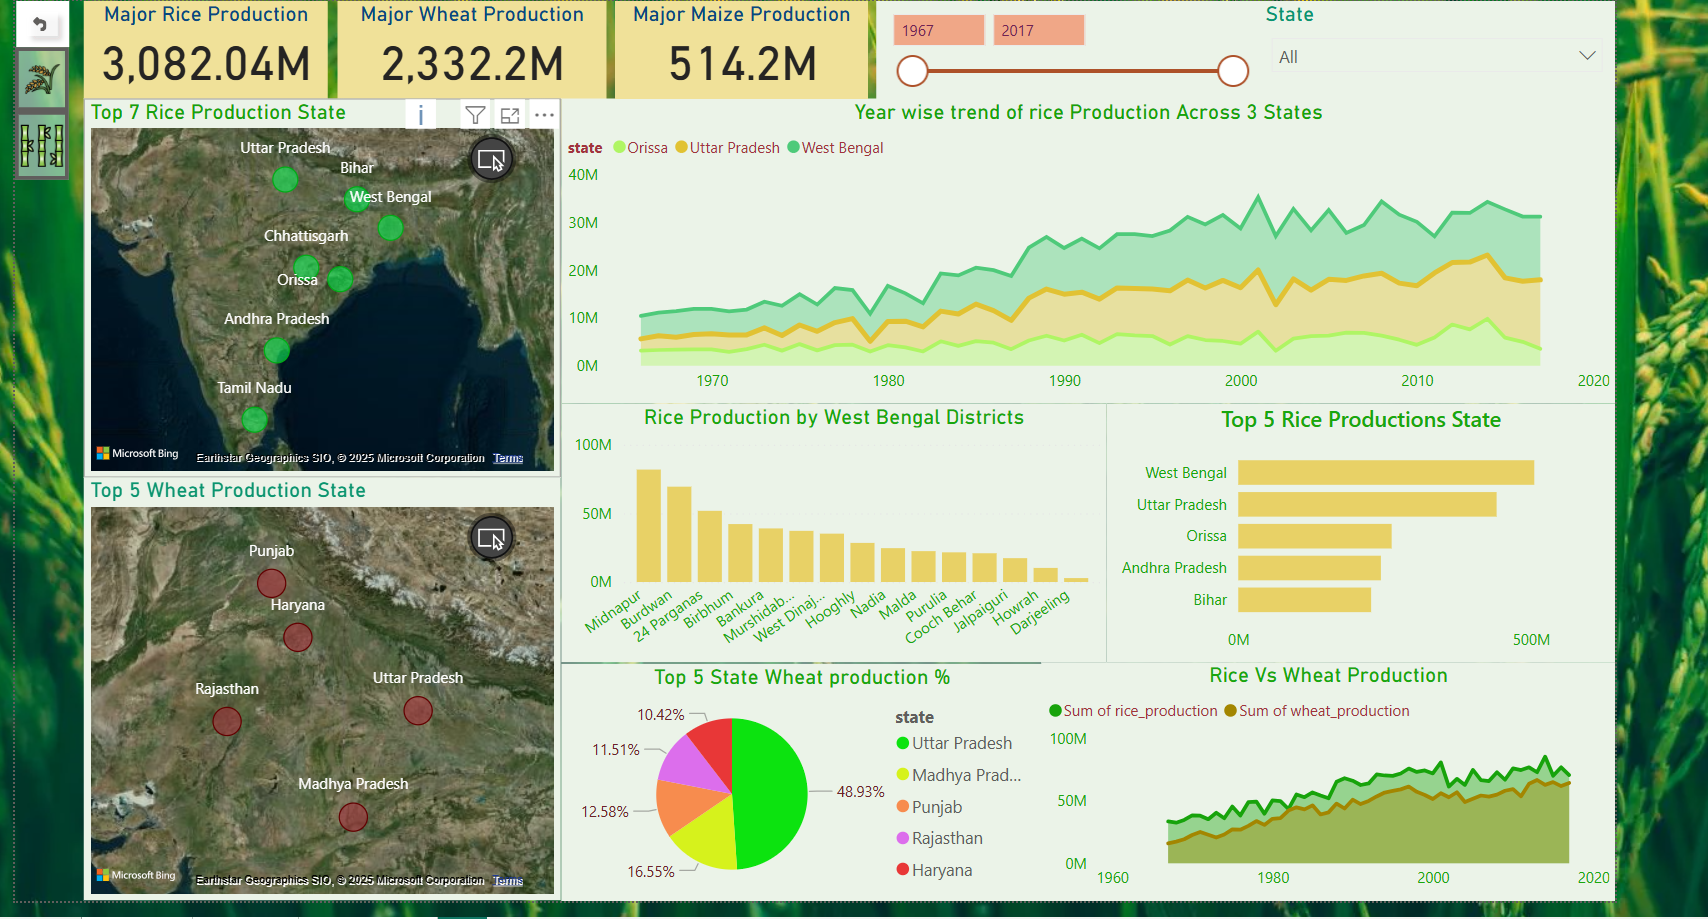

The page's visual inventory and layout, read from the dashboard file:
{"tool":"powerbi","page":{"name":"CEREALS","canvas":[1280,720],"ordinal":0},"visuals":[{"type":"clusteredBarChart","title":"Top 5  Rice Productions State","fields":{"Category":["Top 7 RICE PRODUCTION State Data.state"],"Y":["Sum(Top 7 RICE PRODUCTION State Data.rice_production)"]},"box":[821,106.7,459,324.8],"z":0},{"type":"card","title":"Major Wheat Production","fields":{"Values":["Sum(Query1.wheat_production)"]},"box":[311.6,10.8,214.6,77.4],"z":1000},{"type":"card","title":"Major Rice Production","fields":{"Values":["Sum(rice production.rice_production)"]},"box":[70.6,10.8,212.6,76.4],"z":2000},{"type":"pieChart","title":"Top 5 State Wheat production %","fields":{"Y":["Sum(Top 5 wheat producing state.percentage)"],"Category":["Top 5 wheat producing state.state"]},"box":[453,526.8,383.3,192.7],"z":3000},{"type":"lineChart","title":"Rice Vs Wheat Production","fields":{"Y":["Sum(Rice vs Wheat production.rice_production)","Sum(Rice vs Wheat production.wheat_production)"],"Category":["Rice vs Wheat production.year"]},"box":[844.9,445.8,435.1,274.5],"z":4000},{"type":"clusteredColumnChart","title":"Rice Production by West Bengal Districts","fields":{"Category":["Rice Production by West Bengal districts.west_bengal_districts"],"Y":["Sum(Rice Production by West Bengal districts.rice_production)"]},"box":[70.7,534.5,366.7,184.6],"z":5000},{"type":"lineChart","title":"Year wise trend of rice Production Across 3 States","fields":{"Series":["SQ1 - Year-wise Trend of Rice Production Across States (Top 3).state"],"Category":["SQ1 - Year-wise Trend of Rice Production Across States (Top 3).year"],"Y":["Sum(SQ1 - Year-wise Trend of Rice Production Across States (Top 3).total_rice_production)"]},"box":[70.7,94.3,740,424.3],"z":6000},{"type":"slicer","fields":{"Values":["Millet production (last 50 years).year"]},"box":[821,4.8,459,92.3],"z":7000},{"type":"card","title":"Major Maize Production","fields":{"Values":["Sum(maize pro.maize_production)"]},"box":[549.7,10.8,223.4,77.4],"z":10000},{"type":"actionButton","box":[0,10.8,49,49],"z":12000},{"type":"actionButton","box":[0,518.6,62.5,78.9],"z":13002},{"type":"actionButton","box":[0,640.6,62.5,78.9],"z":13003}]}

Visuals, with their boxes on the page's 1280x720 design canvas (x1, y1, x2, y2). These are canvas units, not pixel positions in the 1708x919 screenshot, which may show the page scaled, cropped or inside an application window:
"Top 5  Rice Productions State" clusteredBarChart: (left=821, top=107, right=1280, bottom=432)
"Major Wheat Production" card: (left=312, top=11, right=526, bottom=88)
"Major Rice Production" card: (left=71, top=11, right=283, bottom=87)
"Top 5 State Wheat production %" pieChart: (left=453, top=527, right=836, bottom=720)
"Rice Vs Wheat Production" lineChart: (left=845, top=446, right=1280, bottom=720)
"Rice Production by West Bengal Districts" clusteredColumnChart: (left=71, top=534, right=437, bottom=719)
"Year wise trend of rice Production Across 3 States" lineChart: (left=71, top=94, right=811, bottom=519)
slicer - Millet production (last 50 years).year: (left=821, top=5, right=1280, bottom=97)
"Major Maize Production" card: (left=550, top=11, right=773, bottom=88)
actionButton: (left=0, top=11, right=49, bottom=60)
actionButton: (left=0, top=519, right=62, bottom=598)
actionButton: (left=0, top=641, right=62, bottom=720)
